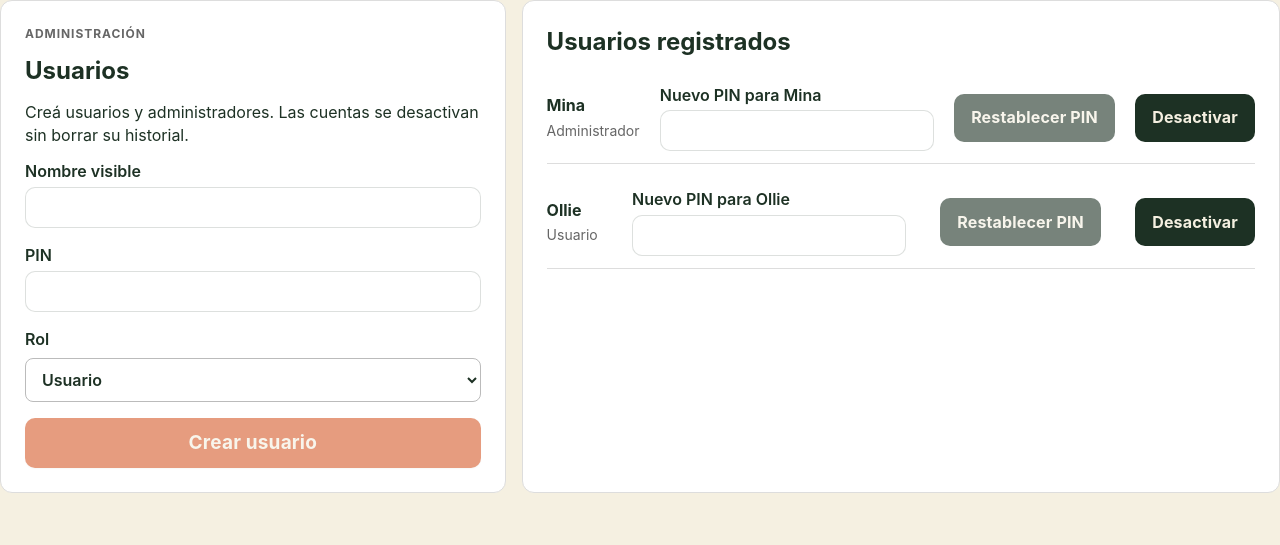
Test case: UserManagementContainer › lists existing users and creates a new operator through the user-management port
Expected: the text "Mina" is shown, x1=547 y1=95 x2=585 y2=115
Type "Rafa" into the field labelled "Nombre visible" at (253, 207), box x1=25 y1=187 x2=481 y2=228
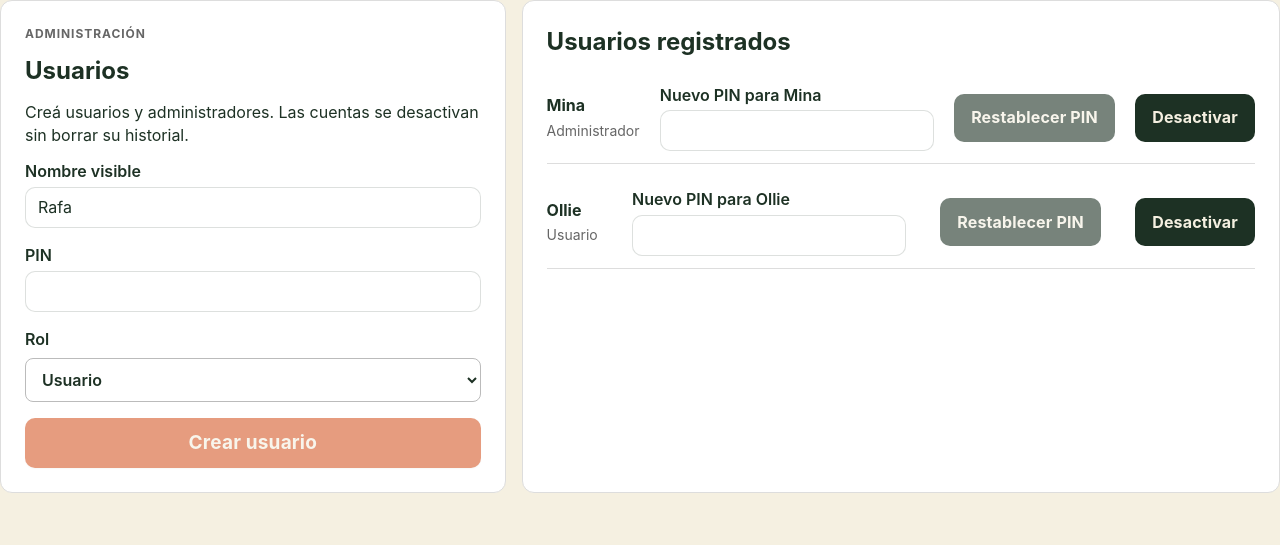
Type "2468" into the password field labelled "PIN" at (253, 292), box x1=25 y1=271 x2=481 y2=312
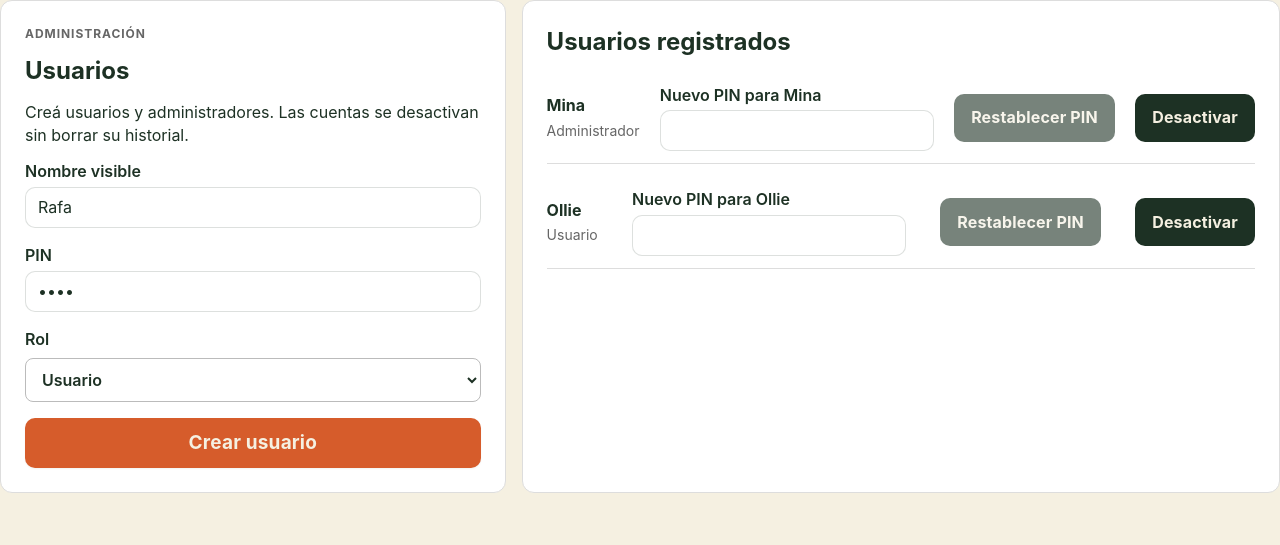
Click the button "Crear usuario" at (253, 443), box x1=25 y1=418 x2=481 y2=468
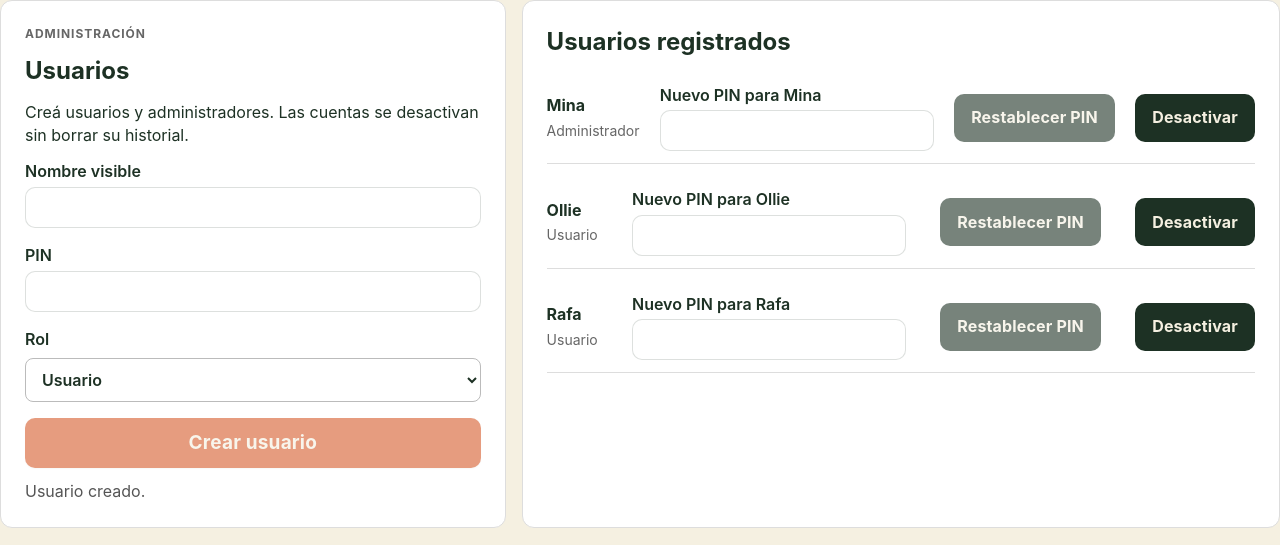
Expected: the text "Usuario creado." is shown, x1=25 y1=481 x2=145 y2=501
Expected: the text "Rafa" is shown, x1=547 y1=304 x2=582 y2=324
